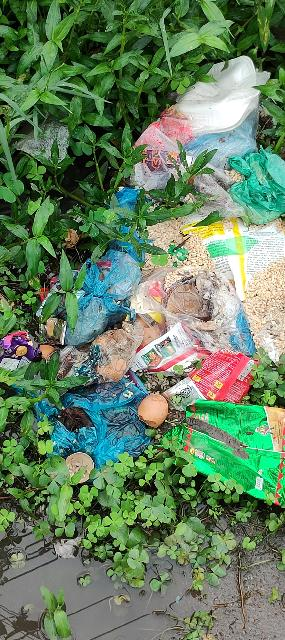polythene: (66, 44, 285, 325)
